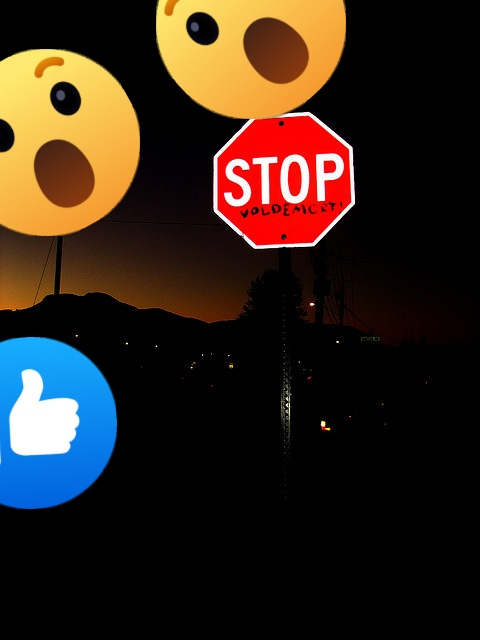like: (0, 337, 117, 509)
wow: (0, 49, 140, 236), (156, 0, 346, 119)
